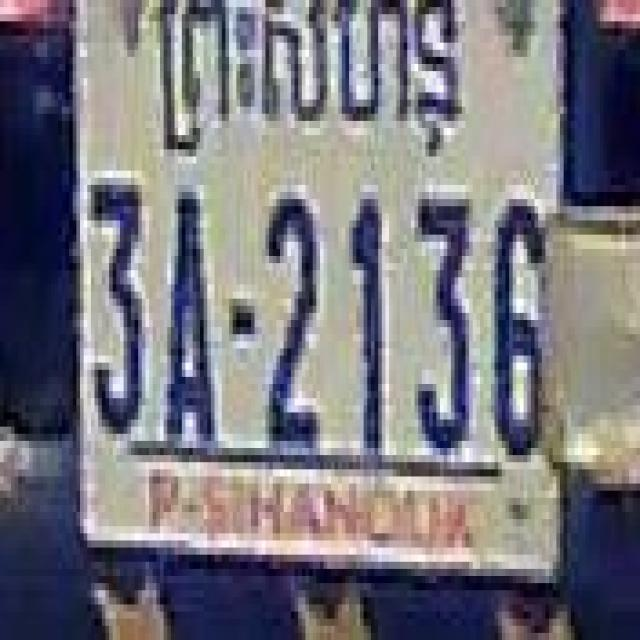Preah_Sihanouk: (156, 0, 461, 153)
